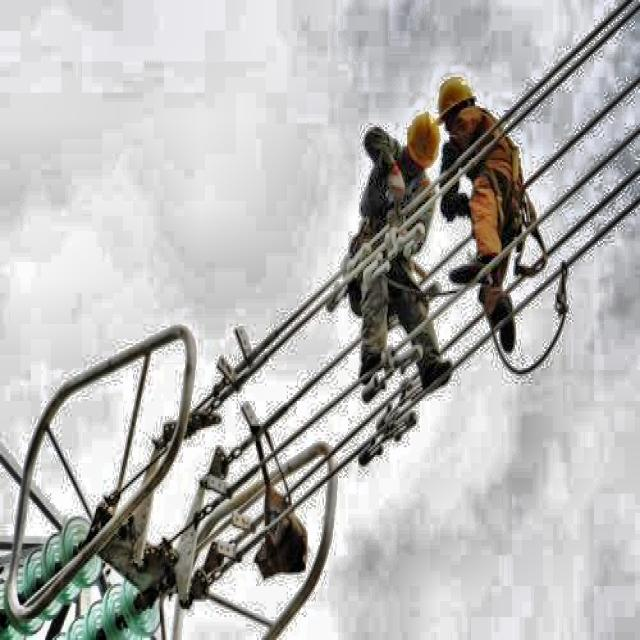helmet: (432, 66, 482, 144), (403, 108, 444, 177)
